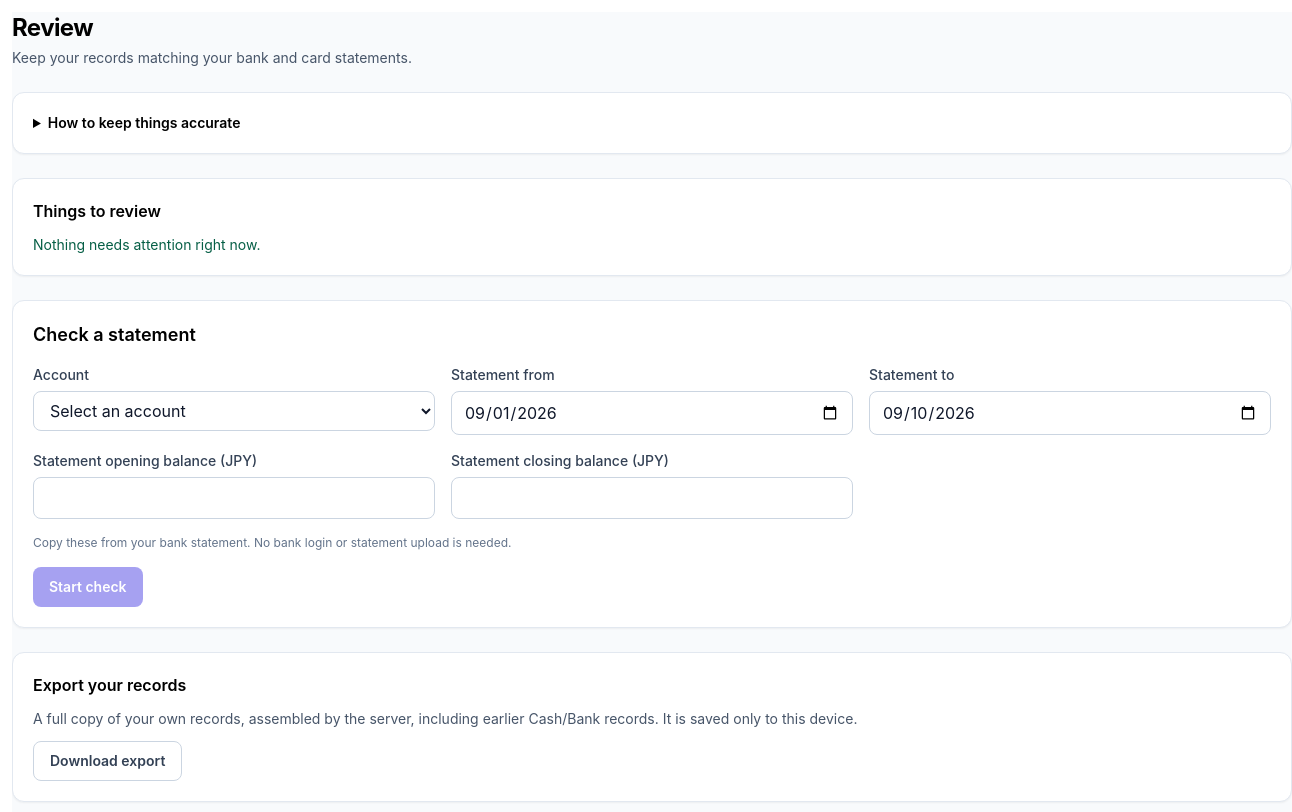
Scenario: enters card statements as amounts owed and sends the server sign convention
This screenshot has width=1292, height=812.
Select "Rewards Card · Credit card" in the dropdown labelled "Account": [234, 411] box 33,391 -> 435,431
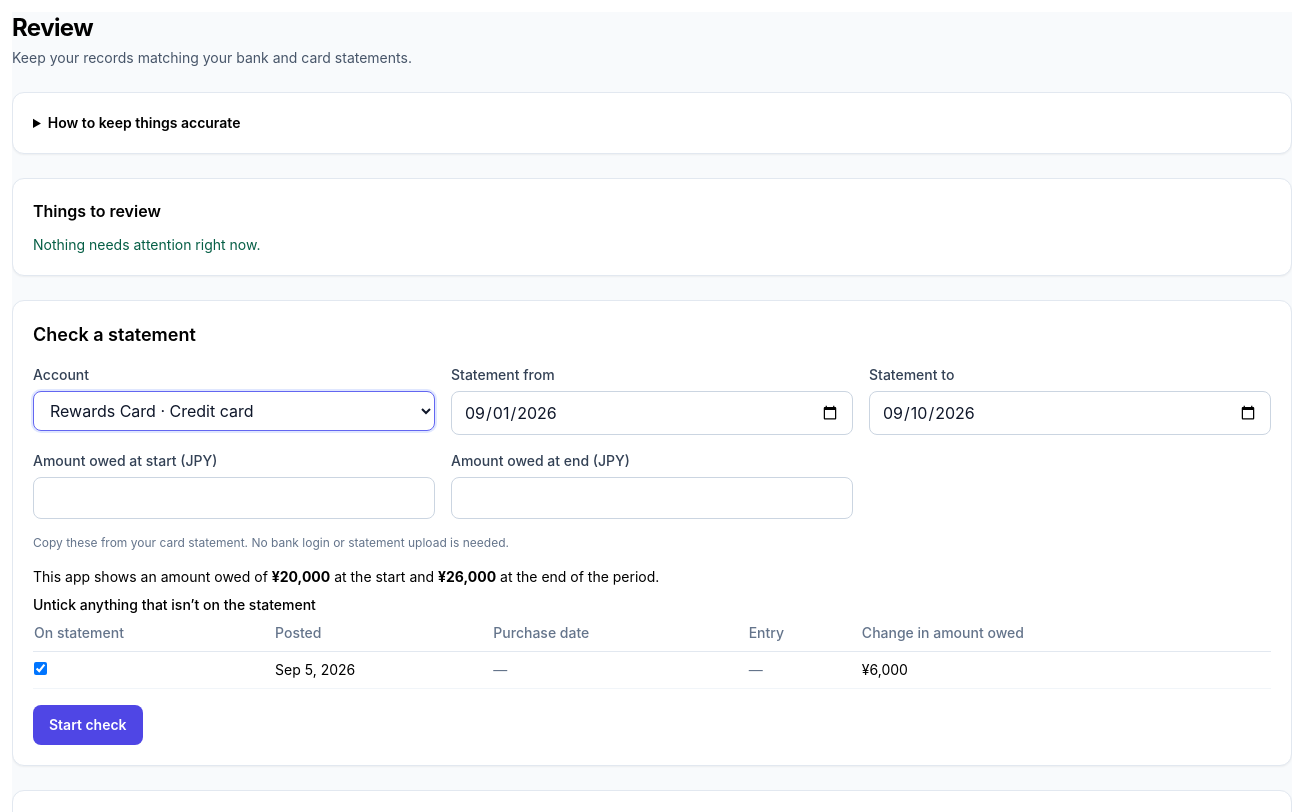
Now the text "This app shows an amount owed of" shows "¥20,000 at the start and ¥26,000 at the end", box 33,568 -> 659,585
Now the text "¥6,000" is shown, box 862,661 -> 908,678
In the field labelled "Amount owed at start (JPY)": [234, 498] box 33,477 -> 435,519, type "20000"
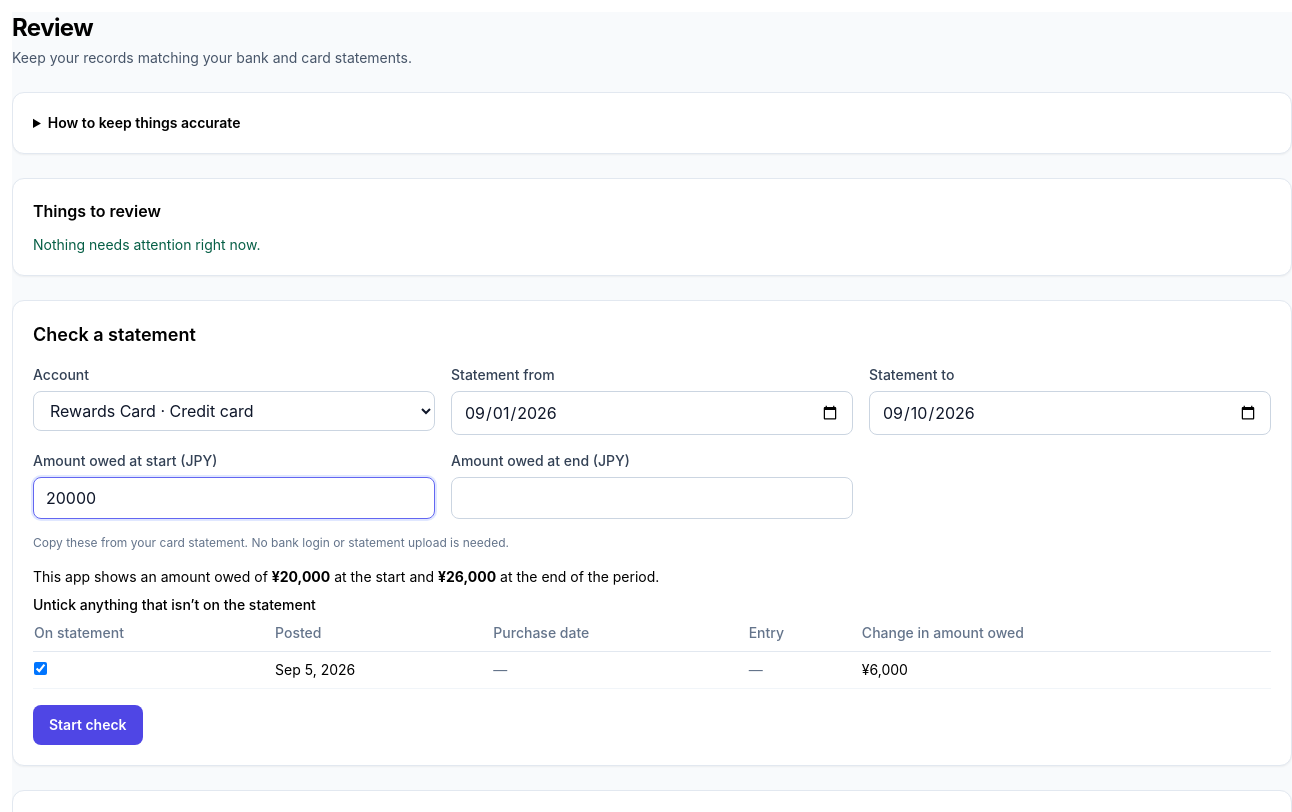
In the field labelled "Amount owed at end (JPY)": [652, 498] box 451,477 -> 853,519, type "26000"
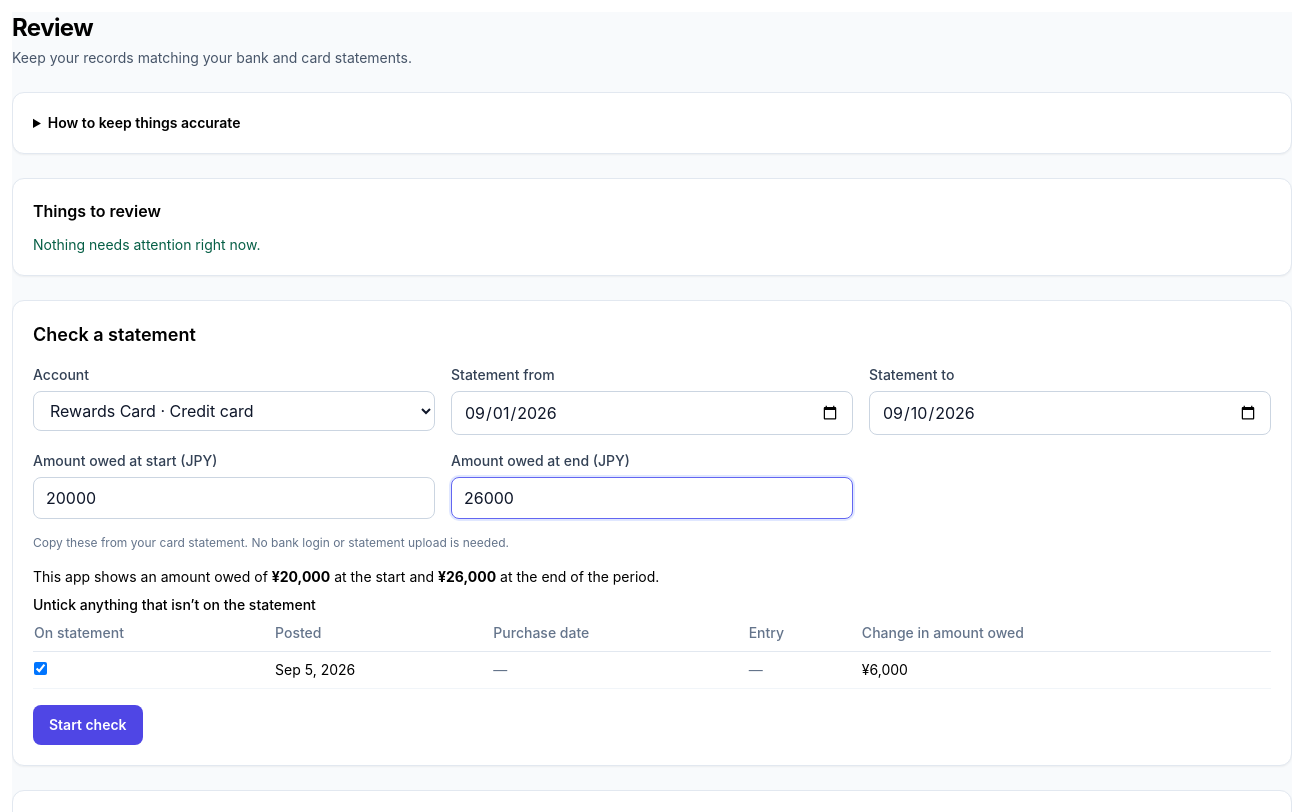
Click the button "Start check": [88, 725] box 33,705 -> 143,745
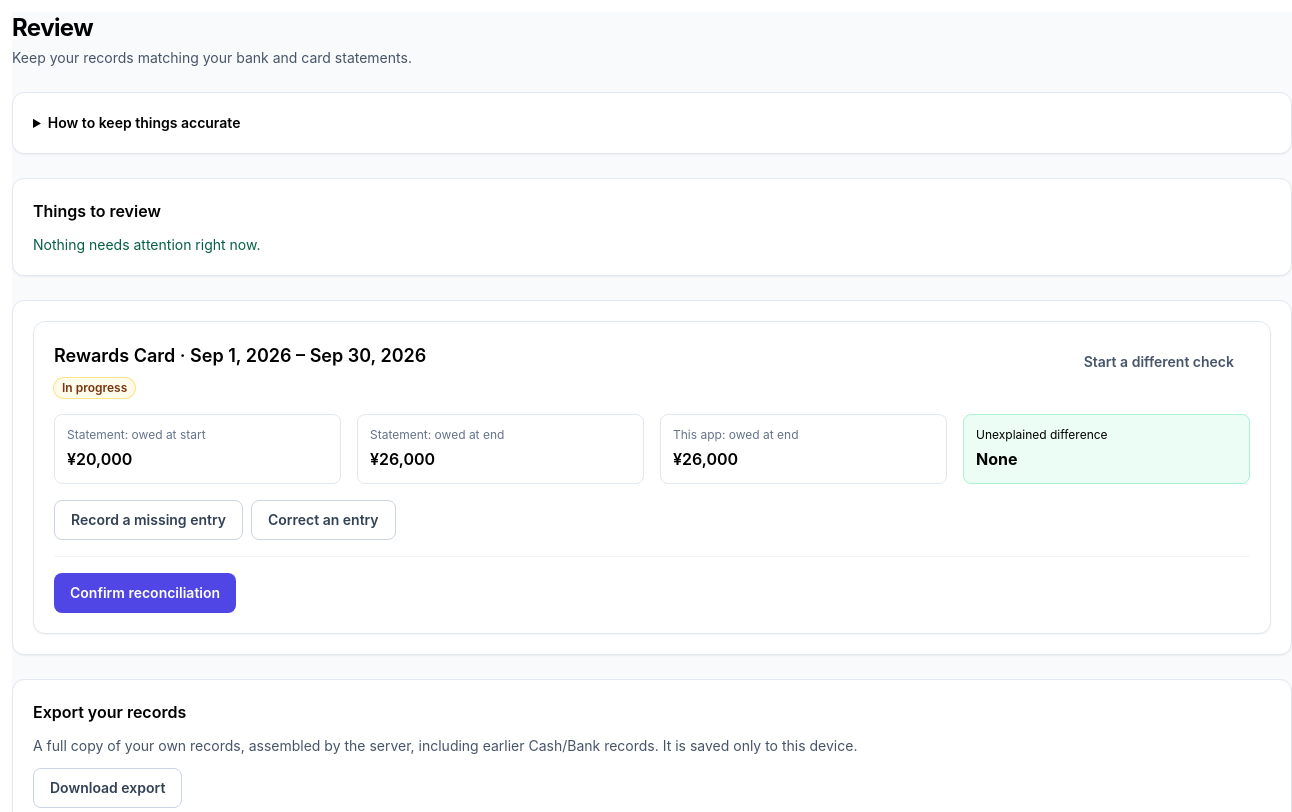
Now the element showing "¥26,000" below "Statement: owed at end" is shown, box 370,449 -> 435,469
Now the button "Confirm reconciliation" is enabled, box 54,573 -> 236,613
